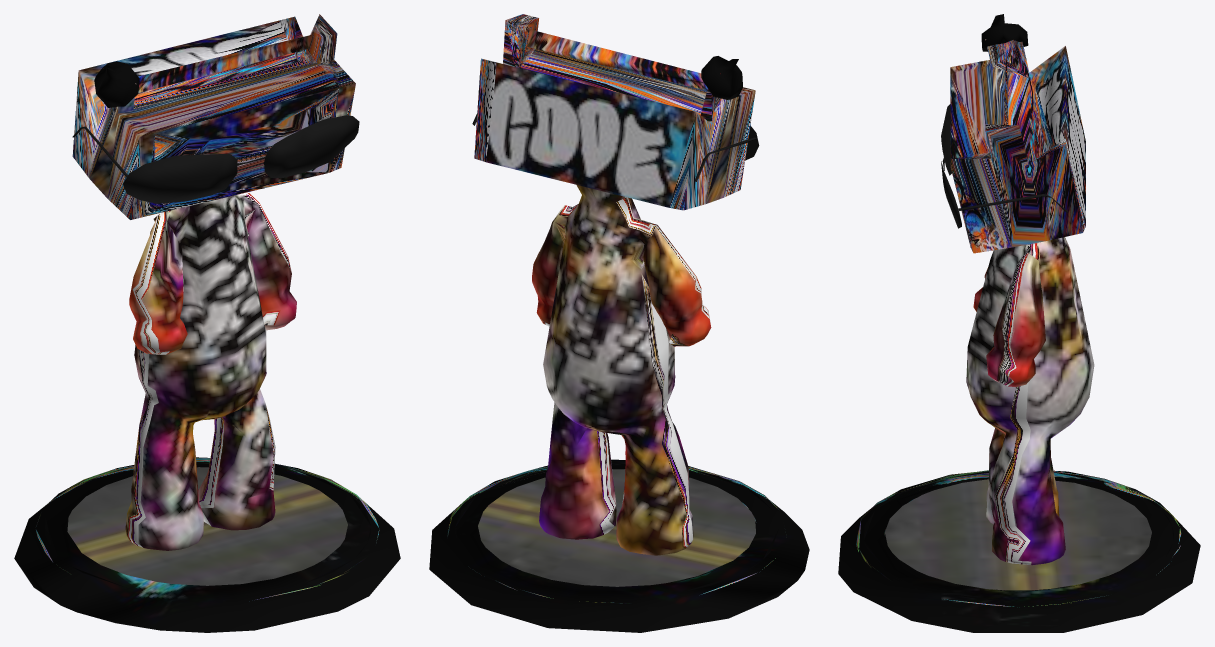
3 views of the same model, side by side, from view 1: azimuth 30°, elevation 25°; view 2: azimuth 150°, elevation 25°; view 3: azimuth 270°, elevation 25° (orthographic). The views are drawn at different scales.
Size of the model in its own units: 1.42 by 2.14 by 1.42.
Materials: 6 (4 with a texture image).
